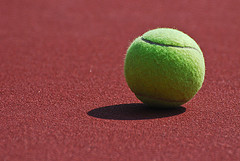tennis ball: (123, 27, 208, 111)
